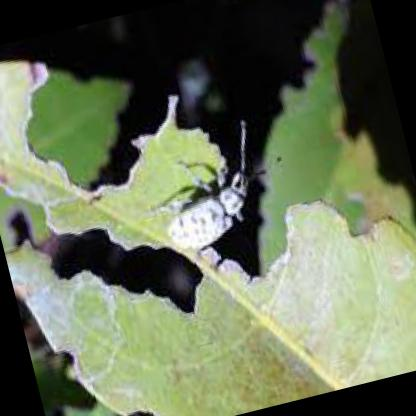ash weevil: (165, 118, 249, 249)
